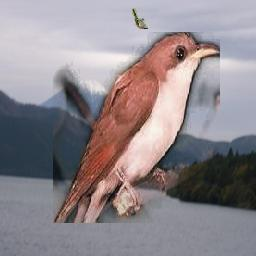Cuckoo: (54, 33, 221, 224), (132, 9, 148, 30)
